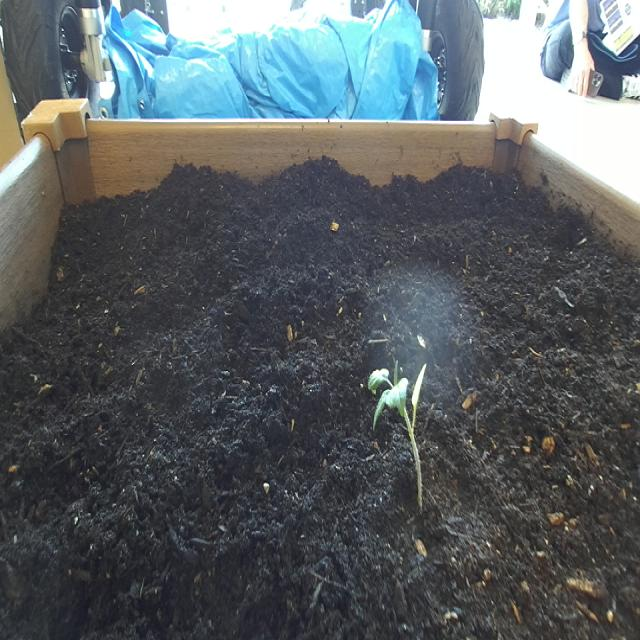Healthy: (358, 340, 441, 534)
